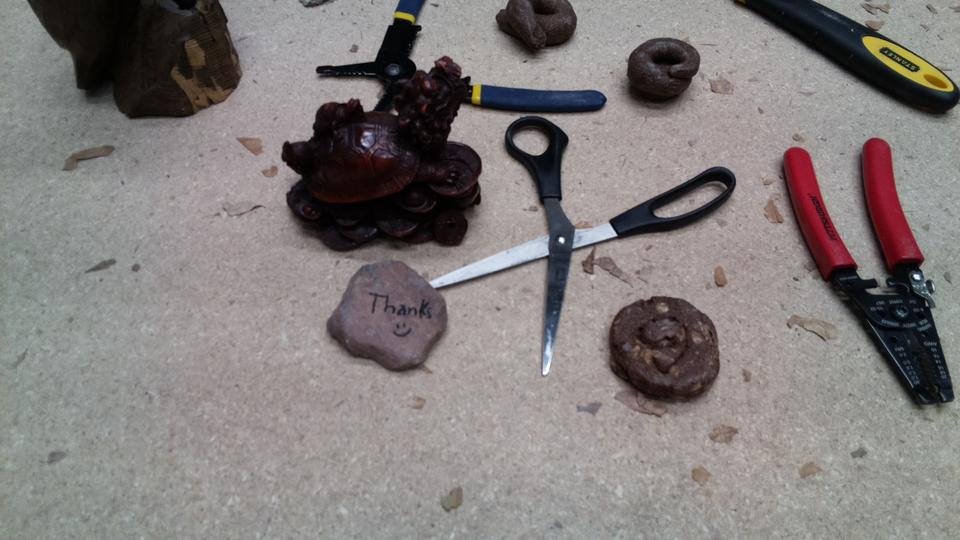poop: (606, 293, 722, 410), (624, 35, 703, 105), (493, 1, 579, 56)
